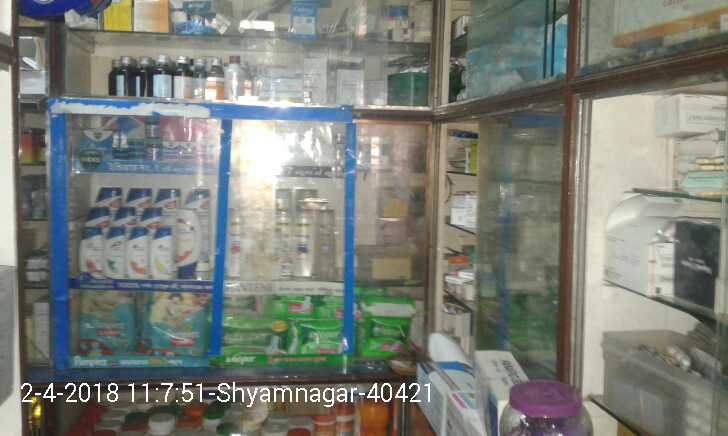vicks: (87, 118, 219, 164)
